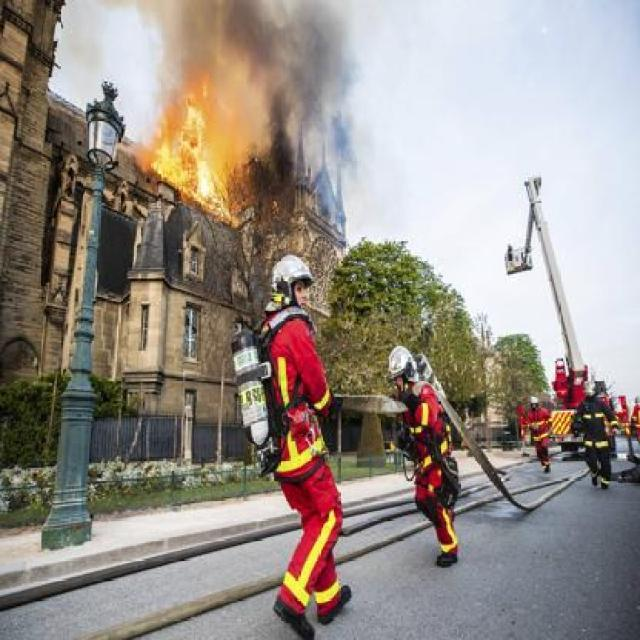Fire: (148, 72, 235, 237)
Smoke: (235, 2, 354, 198)
